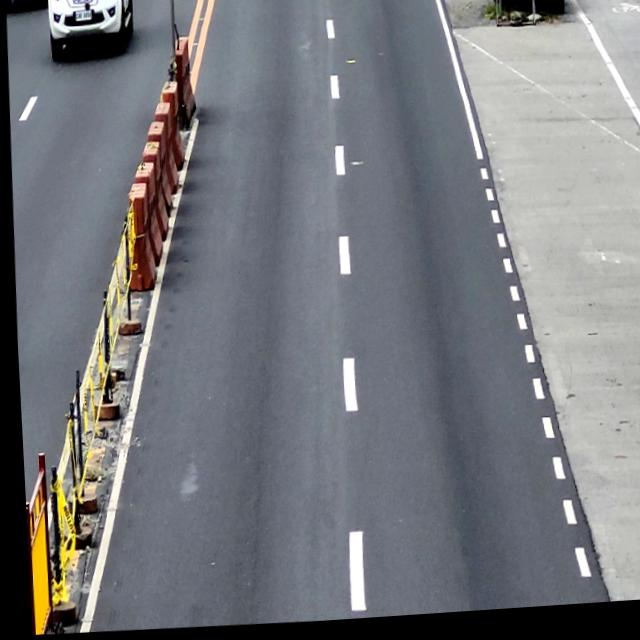Car: (46, 0, 136, 62)
License-Plate: (74, 12, 91, 23)
